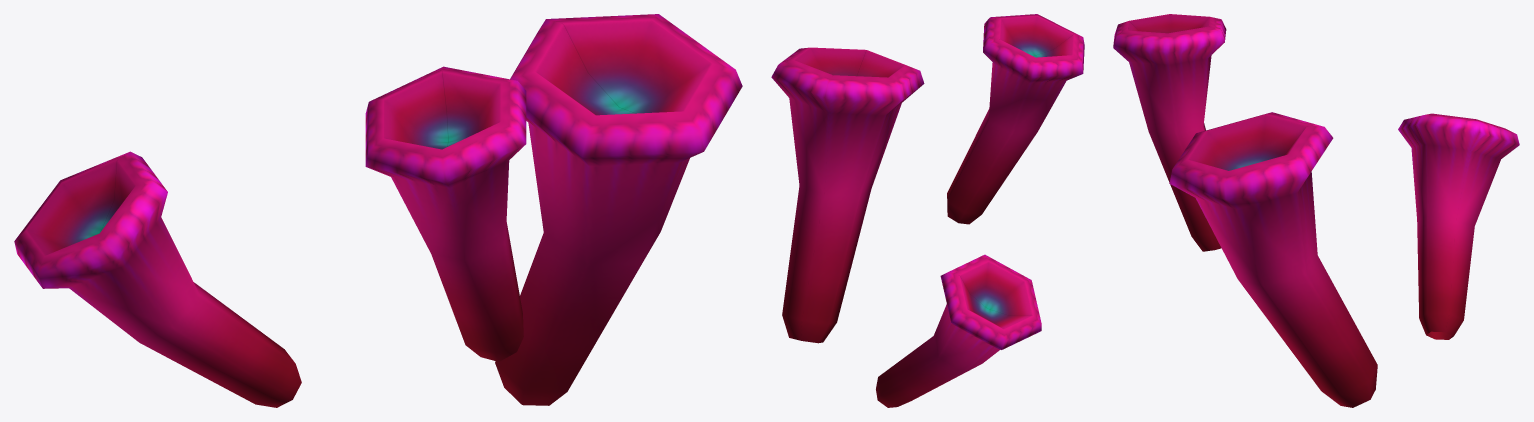
Rendered from Coral_14i.FBX.
3 views of the same model, side by side, from view 1: azimuth 30°, elevation 25°; view 2: azimuth 150°, elevation 25°; view 3: azimuth 270°, elevation 25° (orthographic). The views are drawn at different scales.
Parts seen in each view (by area): view 1: Coral_14ii; view 2: Coral_14ii; view 3: Coral_14ii.
Boxes of the visible parts, x1,y1,x2,y2 form: Coral_14ii: [14, 14, 742, 407]; Coral_14ii: [771, 14, 1084, 407]; Coral_14ii: [1113, 14, 1519, 407].
Size of the model in its own units: 17.95 by 14.41 by 16.81.
